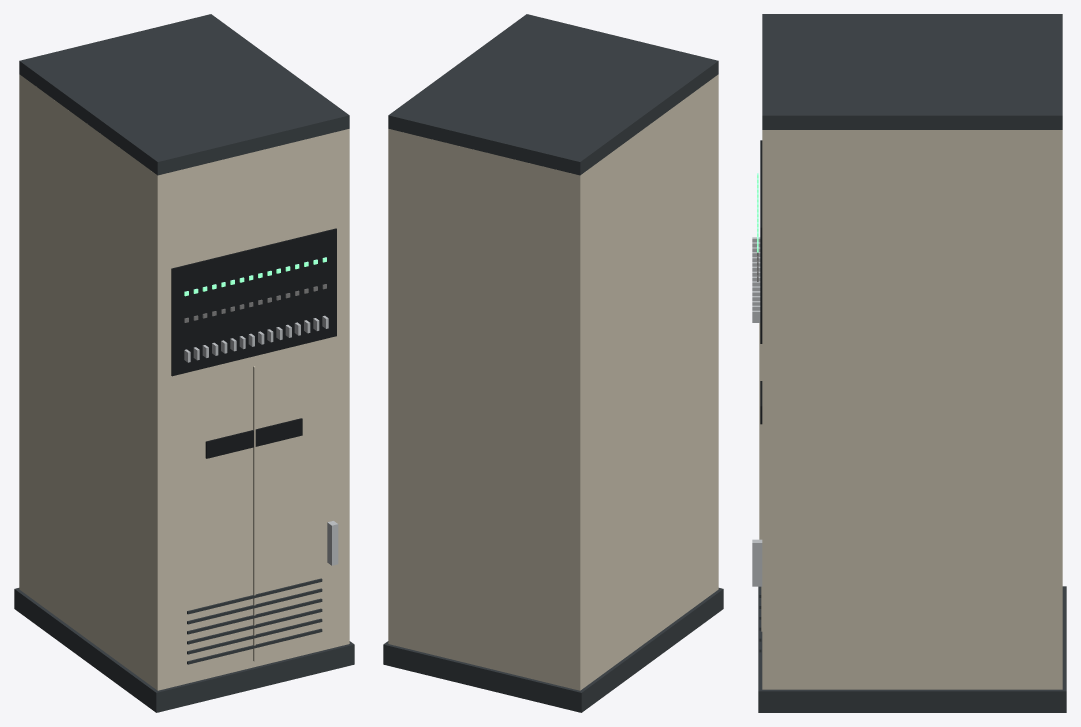
3 views of the same model, side by side, from view 1: azimuth 30°, elevation 25°; view 2: azimuth 150°, elevation 25°; view 3: azimuth 270°, elevation 25° (orthographic). The views are drawn at different scales.
Visible parts, largest first — view 1: kit-ps-c30, DOOR; view 2: kit-ps-c30; view 3: kit-ps-c30, DOOR.
Boxes of the visible parts, x1,y1,x2,y2 form: kit-ps-c30: [14, 14, 354, 712]; DOOR: [253, 366, 255, 661]; kit-ps-c30: [383, 14, 723, 712]; kit-ps-c30: [752, 14, 1066, 712]; DOOR: [759, 323, 762, 631].
Size of the model in its own units: 0.62 by 1.64 by 0.785.
